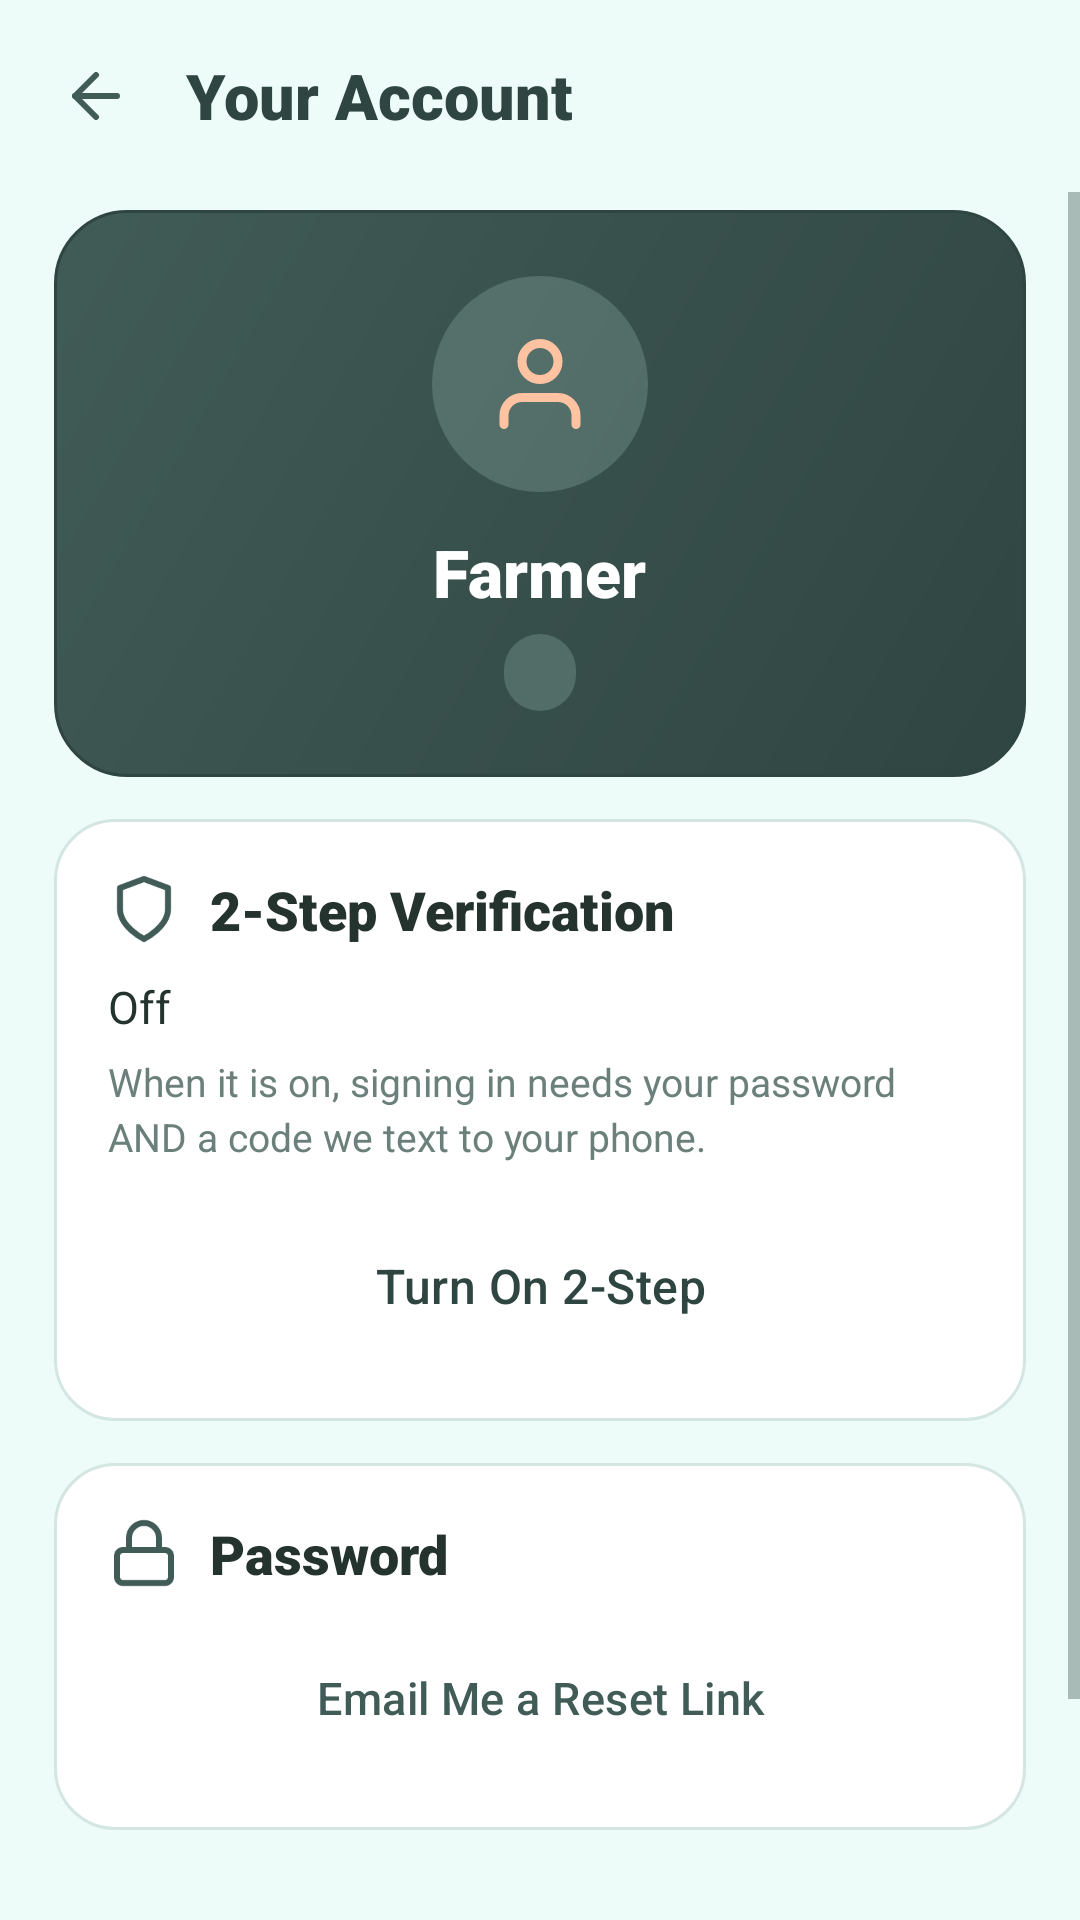

Icons on this 1080*1920 Android screen, each with its box as [left=x1, top=y1, right=x2, bottom=y2]:
User: [left=432, top=276, right=648, bottom=492]
